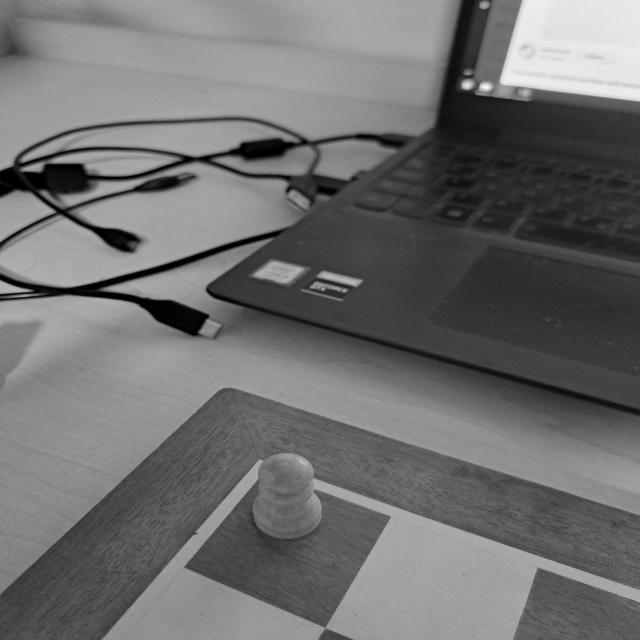chess-table-corners: (228, 447, 304, 500)
